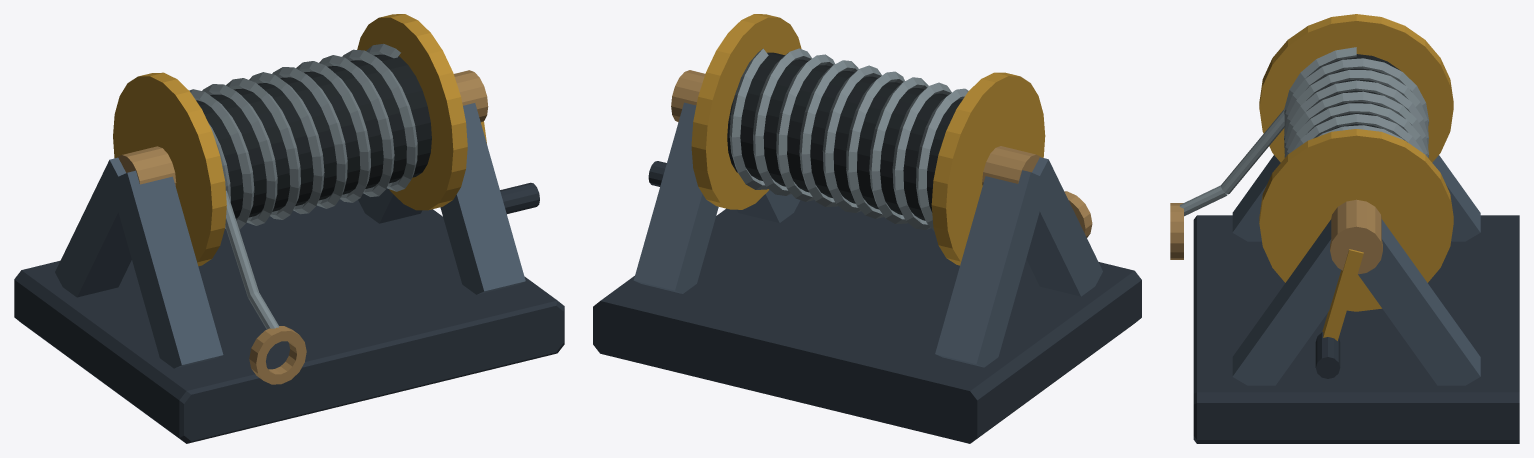
File: S-03_rescue_winch.glb
The picture shows the model from 3 angles, left to right: view 1: azimuth 30°, elevation 25°; view 2: azimuth 150°, elevation 25°; view 3: azimuth 270°, elevation 25°; orthographic projection. The views are drawn at different scales.
Visible parts, largest first — view 1: S-03_rescue_winch; view 2: S-03_rescue_winch; view 3: S-03_rescue_winch.
Part boxes in pixels (x1=…): S-03_rescue_winch: x1=14, y1=14, x2=564, y2=443; S-03_rescue_winch: x1=593, y1=14, x2=1141, y2=443; S-03_rescue_winch: x1=1170, y1=14, x2=1519, y2=443.
Bounding box in the file's own units: 0.7 × 0.456 × 0.514.
